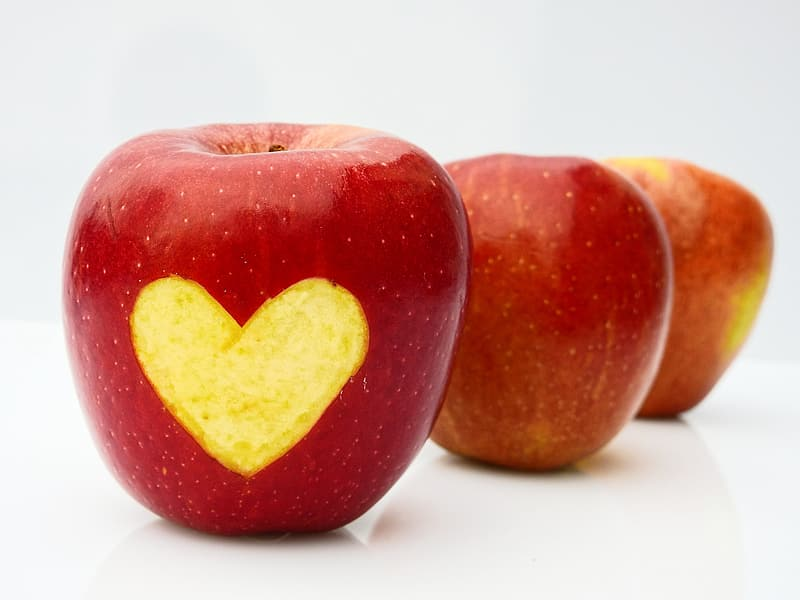elma: (61, 123, 472, 541), (420, 151, 674, 473)
